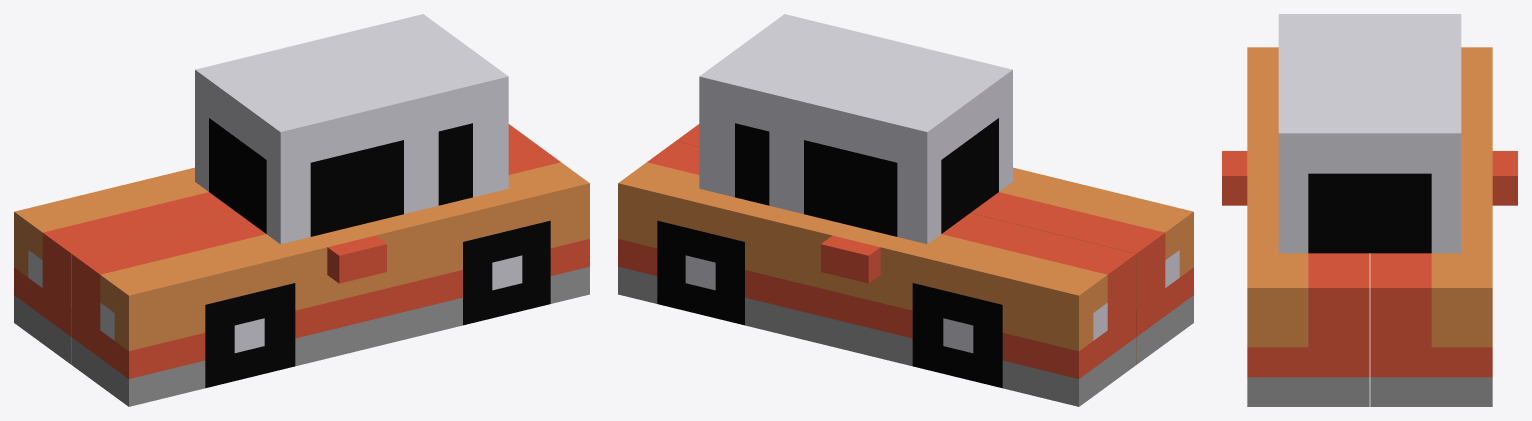
The model's file is voiture_2_rouge.glb.
3 renders of one model, left to right at view 1: azimuth 30°, elevation 25°; view 2: azimuth 150°, elevation 25°; view 3: azimuth 270°, elevation 25°, orthographic. The views are drawn at different scales.
Parts seen in each view (by area): view 1: Car_2_Rouge; view 2: Car_2_Rouge; view 3: Car_2_Rouge.
Boxes of the visible parts, left/top/right/bottom form: Car_2_Rouge: left=14, top=14, right=589, bottom=406; Car_2_Rouge: left=618, top=14, right=1193, bottom=406; Car_2_Rouge: left=1222, top=14, right=1517, bottom=406.
Size of the model in its own units: 16.43 by 7.61 by 8.53.
